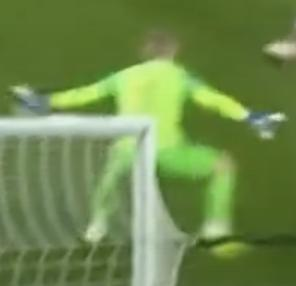goalkeeper: (13, 18, 290, 274)
